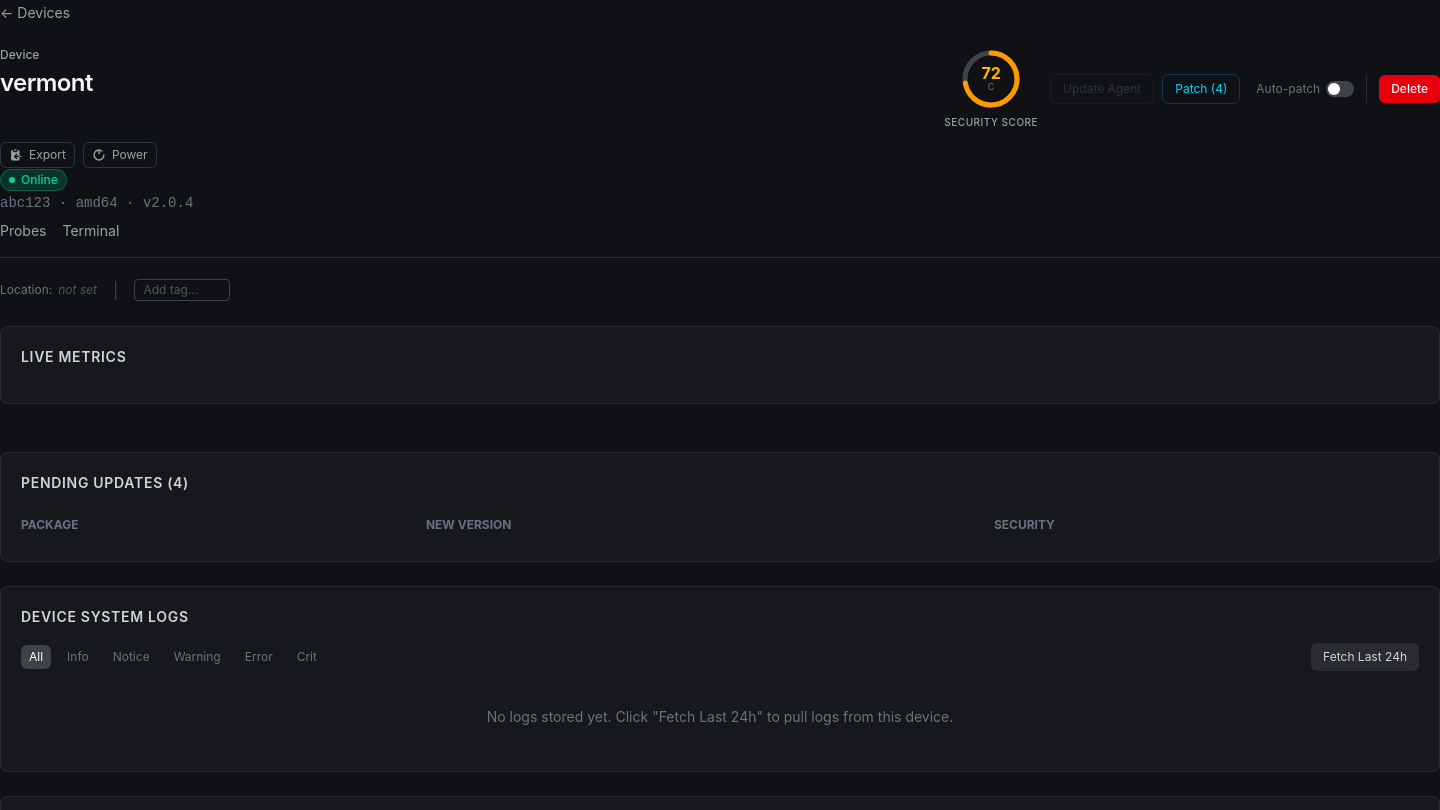
Test: [PATCH-FLOW-001 AC-006] a pending kernel is not a reboot indicator › keeps Patch primary when packages are pending even though a reboot is required
Expected: the heading "vermont" is shown, [0,68,93,97]
Click the button "Patch (4)" at (1201, 88), box [1162,74,1240,104]
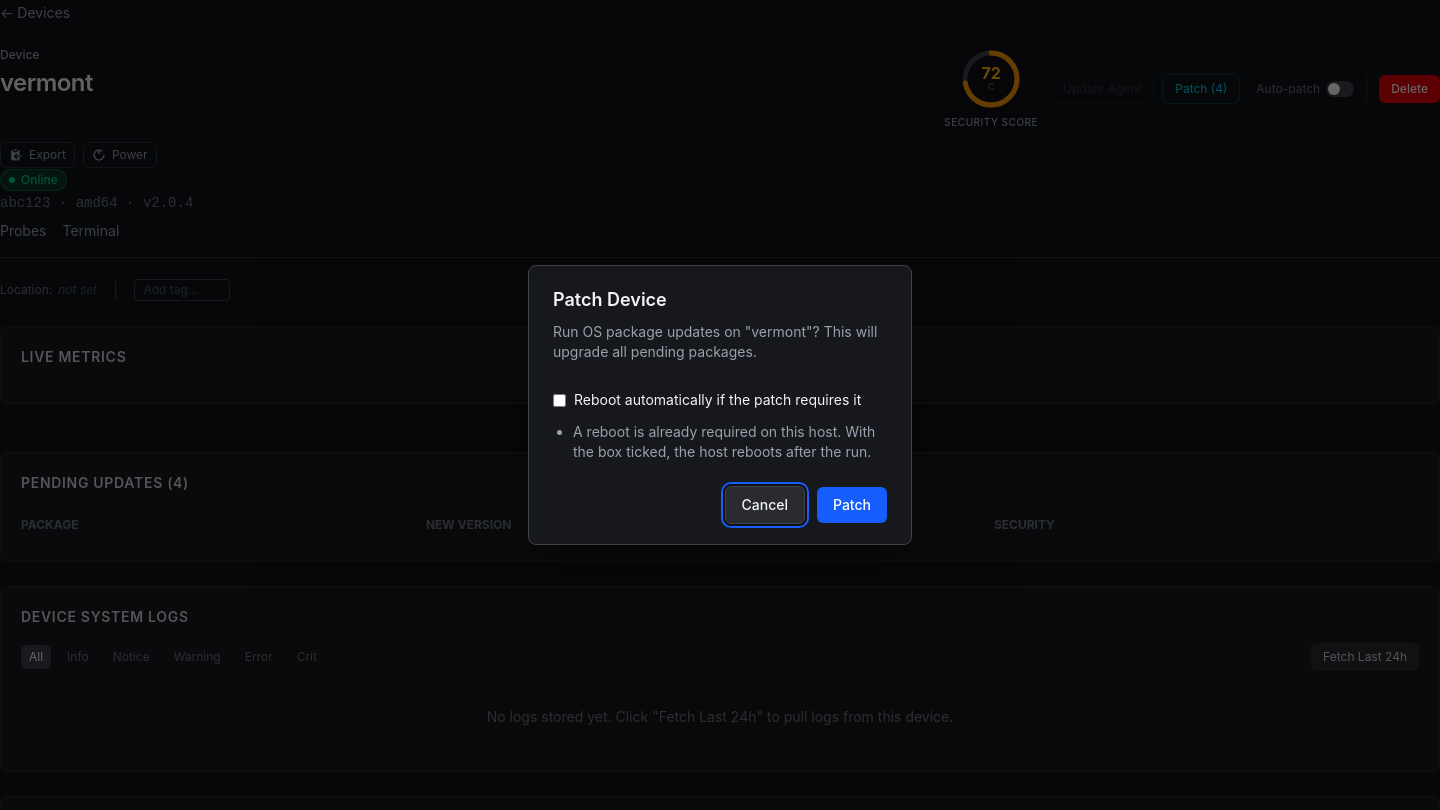
Result: the list item "A reboot is already required on this host" is shown at [573,423,875,460]
